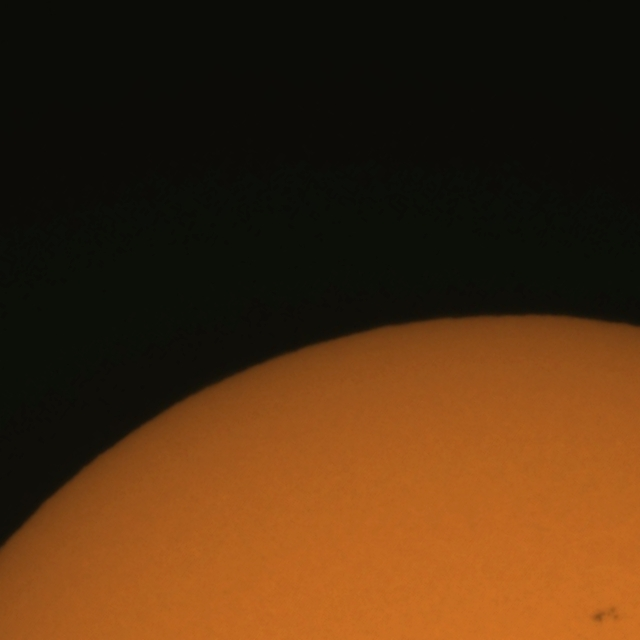sunspot: (592, 605, 622, 626)
